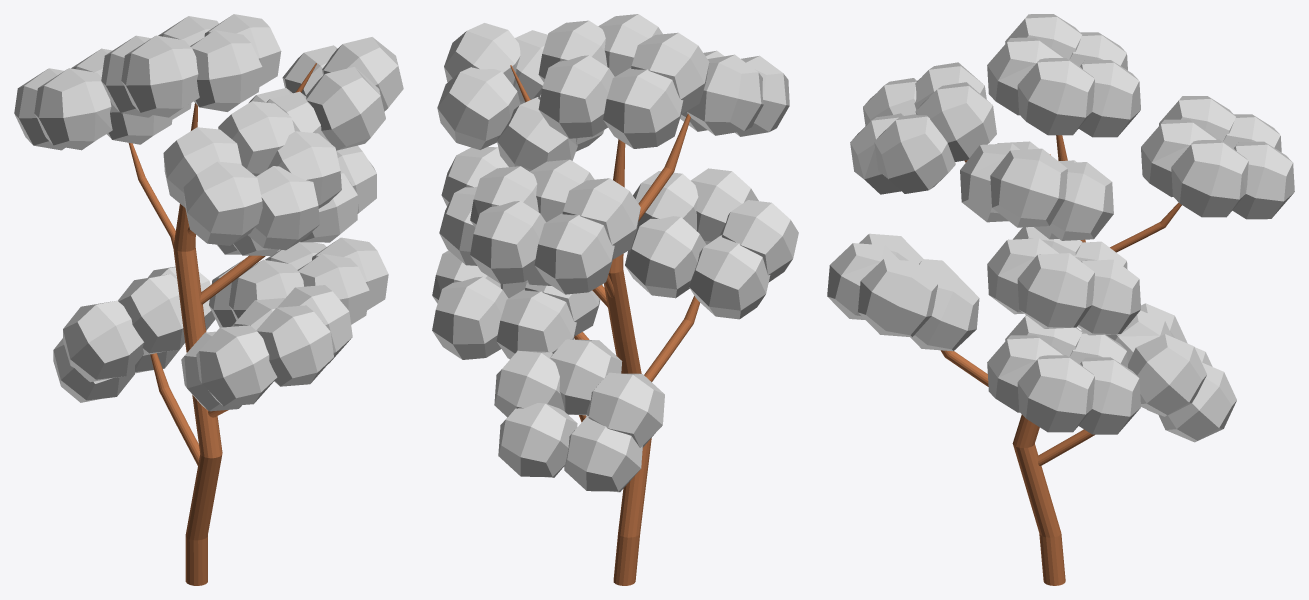
Rendered from coton3.fbx.
3 renders of one model, left to right at view 1: azimuth 30°, elevation 25°; view 2: azimuth 150°, elevation 25°; view 3: azimuth 270°, elevation 25°, orthographic.
Parts seen in each view (by area): view 1: Cylinder; view 2: Cylinder; view 3: Cylinder.
Part boxes in pixels (left/top/right/bottom): Cylinder: left=14, top=14, right=403, bottom=585; Cylinder: left=432, top=14, right=798, bottom=585; Cylinder: left=827, top=14, right=1294, bottom=585.
Bounding box in the file's own units: 212 × 408 × 317.
